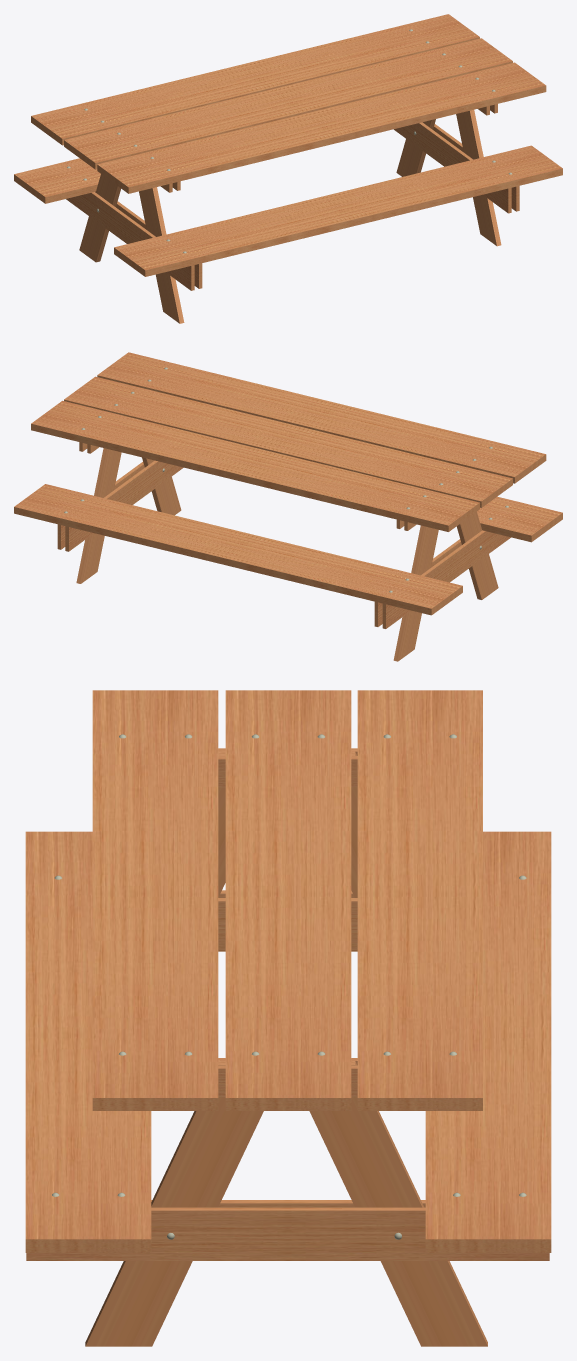
Rendered from Picnic Table.fbx.
3 renders of one model, top to bottom at view 1: azimuth 30°, elevation 25°; view 2: azimuth 150°, elevation 25°; view 3: azimuth 270°, elevation 25°, orthographic. The views are drawn at different scales.
Parts seen in each view (by area): view 1: free021-06, free021-10, free021-09, free021-08, free021-07, free021-05, free021-17, free021-01, free021-02, free021-03, free021-04, free021-15 (+1 smaller); view 2: free021-07, free021-08, free021-10, free021-09, free021-06, free021-05, free021-17, free021-03, free021-04, free021-02, free021-01, free021-15 (+1 smaller); view 3: free021-10, free021-09, free021-08, free021-07, free021-06, free021-16, free021-01, free021-04, free021-17, free021-02, free021-15.
Boxes of the visible parts, x1,y1,x2,y2 form: free021-06: (114,145,562,276); free021-10: (97,62,546,193); free021-09: (64,38,512,169); free021-08: (31,14,479,145); free021-07: (14,158,100,203); free021-05: (66,192,194,290); free021-17: (394,122,511,213); free021-01: (456,109,501,246); free021-02: (139,187,184,323); free021-03: (79,174,120,262); free021-04: (396,119,435,176); free021-15: (95,191,202,288); free021-07: (14,484,462,615); free021-08: (31,400,479,531); free021-10: (97,352,546,483); free021-09: (64,376,512,507); free021-06: (477,496,562,542); free021-05: (382,530,510,628); free021-17: (65,460,183,551); free021-03: (393,525,438,661); free021-04: (76,448,121,583); free021-02: (456,512,498,599); free021-01: (142,457,181,515); free021-15: (374,539,461,626); free021-10: (92,690,218,1110); free021-09: (225,690,351,1110); free021-08: (357,690,482,1110); free021-07: (425,831,551,1252); free021-06: (25,831,151,1252); free021-16: (26,1207,549,1260); free021-01: (85,1061,263,1346); free021-04: (309,1061,487,1346); free021-17: (151,1200,425,1207); free021-02: (218,751,225,897); free021-15: (218,898,357,951).
Size of the model in its own units: 79.37 by 43.23 by 26.94.
